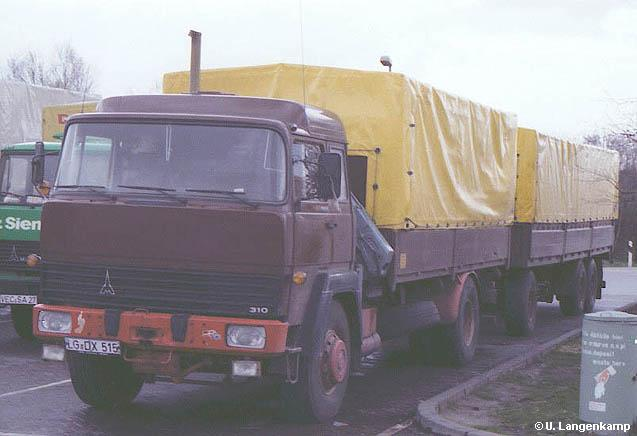truck: (24, 29, 620, 436)
